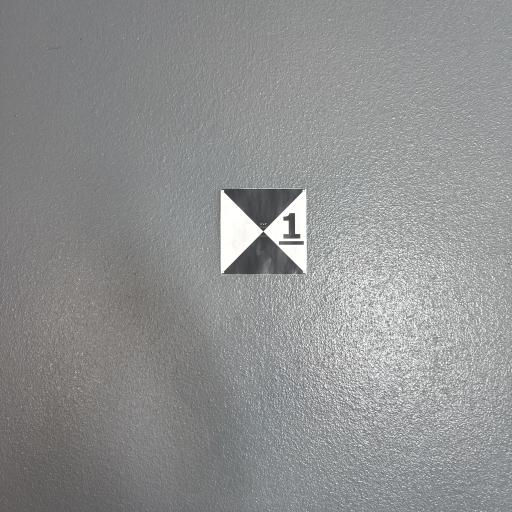target1: (220, 186, 309, 278)
